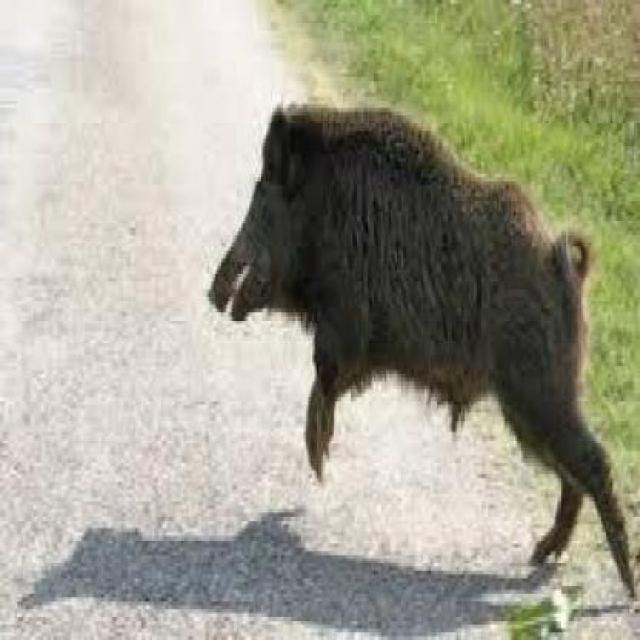Wild Boar: (200, 97, 640, 612)
